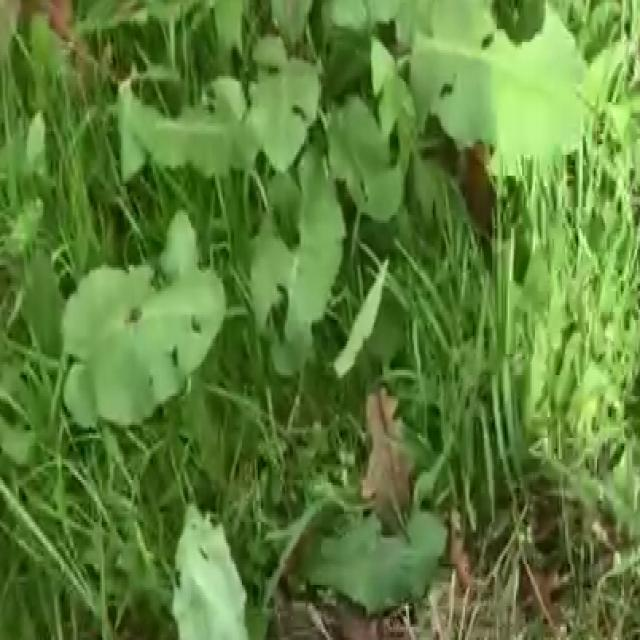organic waste: (81, 0, 597, 359), (114, 443, 467, 640), (27, 249, 266, 472)
